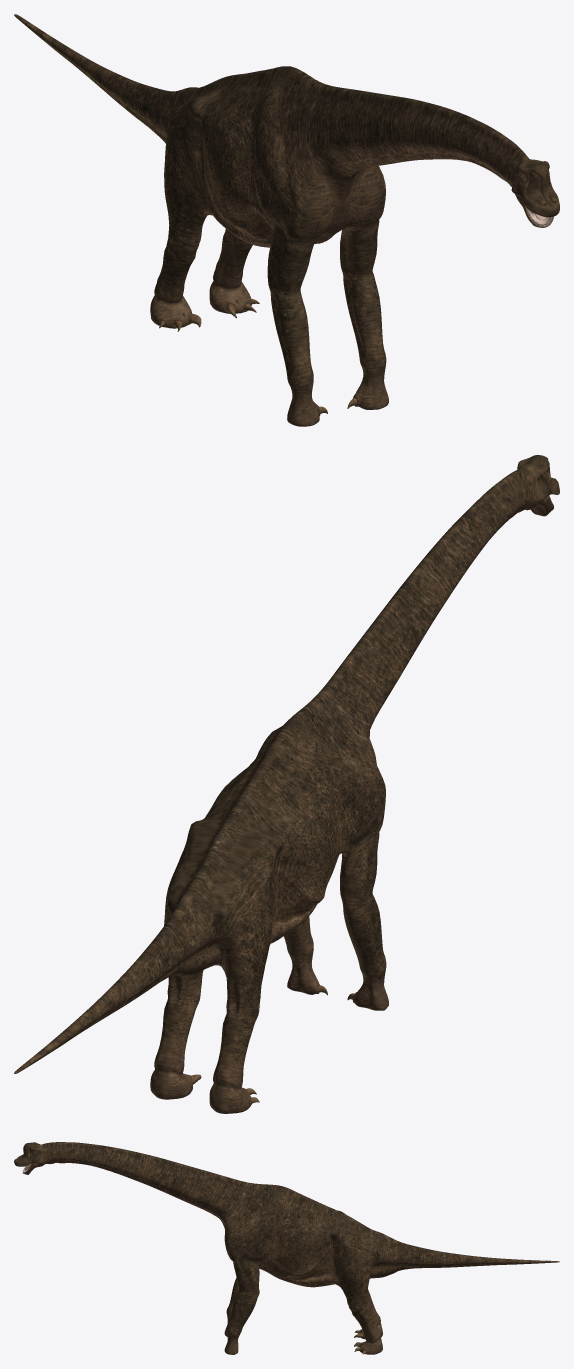
The model's file is Brachiosaurus.glb.
3 views of the same model, one above another, from view 1: azimuth 30°, elevation 25°; view 2: azimuth 150°, elevation 25°; view 3: azimuth 270°, elevation 25° (orthographic). The views are drawn at different scales.
Parts seen in each view (by area): view 1: Object.001; view 2: Object.001; view 3: Object.001.
Part boxes in pixels (x1=…): Object.001: x1=14, y1=14, x2=559, y2=426; Object.001: x1=14, y1=455, x2=559, y2=1113; Object.001: x1=14, y1=1142, x2=559, y2=1354.
Bounding box in the file's own units: 1.32 × 4.59 × 11.27.
Materials: 1 (1 with a texture image).
